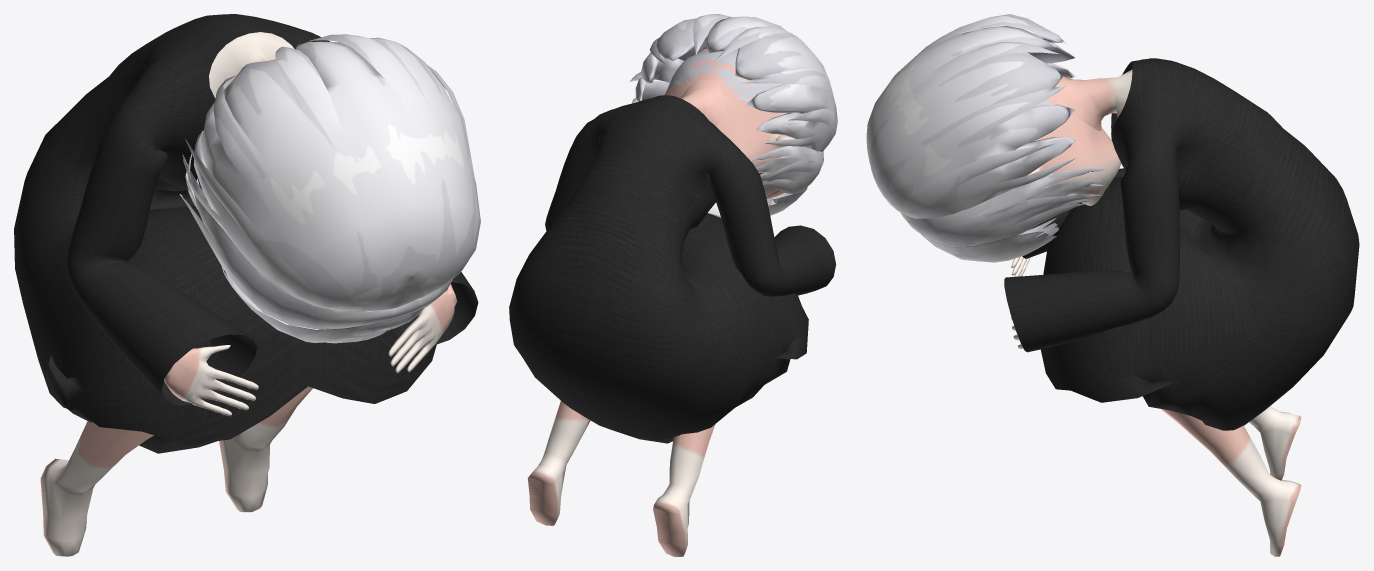
File: CharactorRoll.fbx
The picture shows the model from 3 angles, left to right: view 1: azimuth 30°, elevation 25°; view 2: azimuth 150°, elevation 25°; view 3: azimuth 270°, elevation 25°; orthographic projection. The views are drawn at different scales.
Parts seen in each view (by area): view 1: HDB_C_Roll; view 2: HDB_C_Roll; view 3: HDB_C_Roll.
Boxes of the visible parts, left/top/right/bottom form: HDB_C_Roll: left=14, top=14, right=480, bottom=556; HDB_C_Roll: left=509, top=14, right=837, bottom=556; HDB_C_Roll: left=866, top=14, right=1359, bottom=556.
Size of the model in its own units: 45.3 by 74.42 by 67.85.
